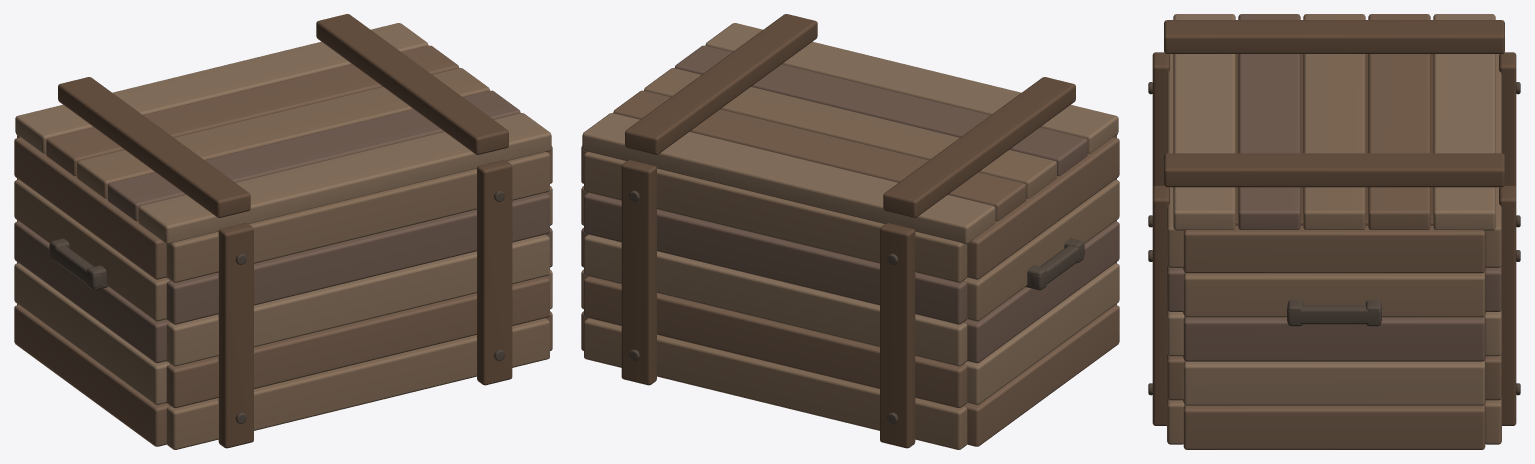
Rendered from SupplyCrate.fbx.
3 renders of one model, left to right at view 1: azimuth 30°, elevation 25°; view 2: azimuth 150°, elevation 25°; view 3: azimuth 270°, elevation 25°, orthographic. The views are drawn at different scales.
Parts seen in each view (by area): view 1: SupplyCrate; view 2: SupplyCrate; view 3: SupplyCrate.
Boxes of the visible parts, <box> form: SupplyCrate: <box>14,14,552,449</box>; SupplyCrate: <box>581,14,1119,449</box>; SupplyCrate: <box>1148,14,1520,449</box>.
Bounding box in the file's own units: 0.959 × 0.5275 × 0.687.
